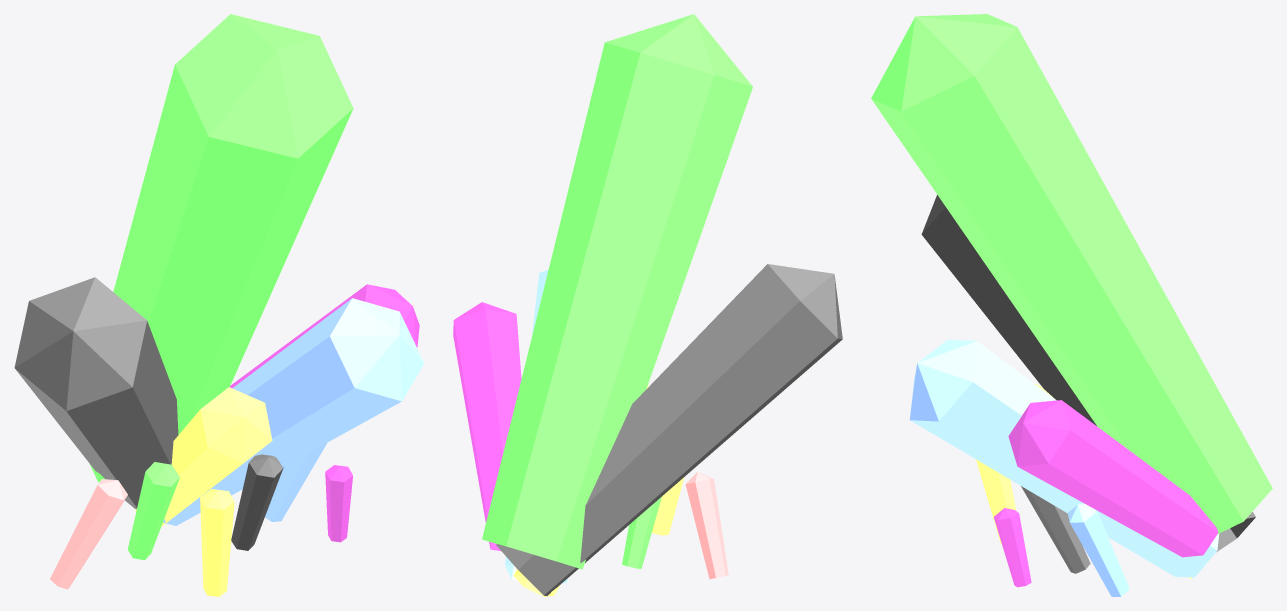
The model's file is EV_Crystal_SM_02.FBX.
3 views of the same model, side by side, from view 1: azimuth 30°, elevation 25°; view 2: azimuth 150°, elevation 25°; view 3: azimuth 270°, elevation 25° (orthographic). The views are drawn at different scales.
Visible parts, largest first — view 1: EV_crystal_SM_02; view 2: EV_crystal_SM_02; view 3: EV_crystal_SM_02.
Boxes of the visible parts, x1=… form: EV_crystal_SM_02: x1=14, y1=14, x2=424, y2=596; EV_crystal_SM_02: x1=453, y1=14, x2=842, y2=596; EV_crystal_SM_02: x1=871, y1=14, x2=1272, y2=596.
Bounding box in the file's own units: 40.02 × 52.6 × 35.07.
